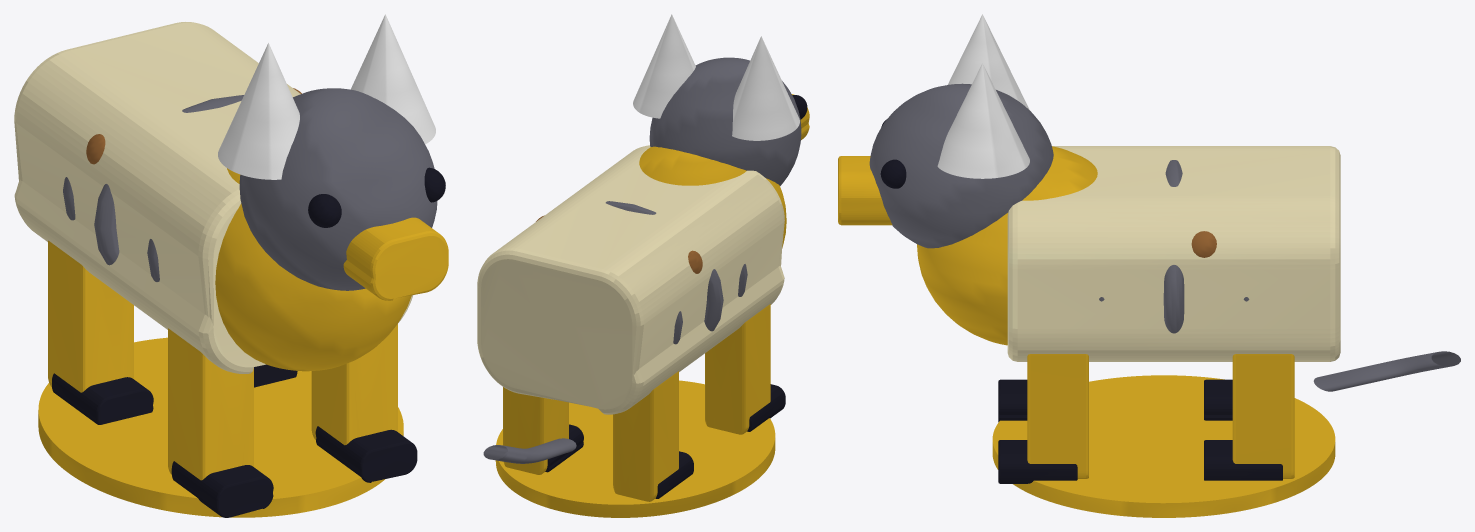
Rendered from 1291_爬行动物图鉴_大壁虎.glb.
3 renders of one model, left to right at view 1: azimuth 30°, elevation 25°; view 2: azimuth 150°, elevation 25°; view 3: azimuth 270°, elevation 25°, orthographic. The views are drawn at different scales.
Parts seen in each view (by area): view 1: card_1291; view 2: card_1291; view 3: card_1291.
Part boxes in pixels (x1=…): card_1291: x1=14, y1=14, x2=448, y2=517; card_1291: x1=477, y1=14, x2=809, y2=517; card_1291: x1=838, y1=14, x2=1460, y2=517.
Size of the model in its own units: 0.6599 by 1 by 1.36.
